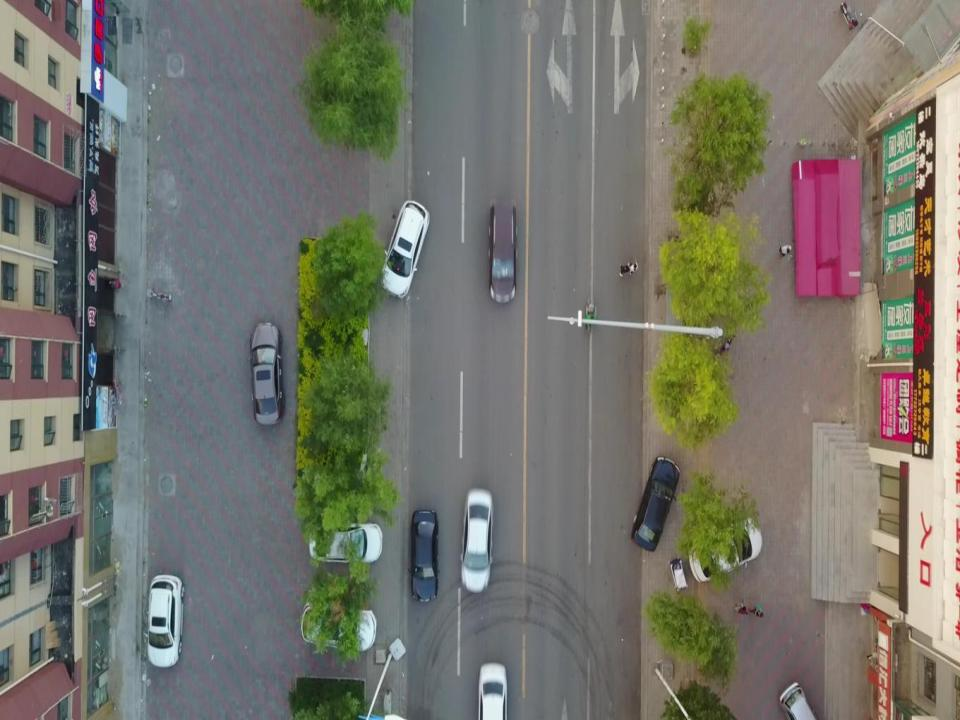car: (382, 194, 432, 304), (632, 446, 681, 555), (687, 523, 762, 586), (299, 599, 378, 653), (460, 481, 496, 598), (144, 570, 184, 672), (247, 317, 283, 426), (486, 200, 519, 310), (406, 504, 440, 606), (305, 520, 383, 564), (476, 658, 509, 719), (775, 675, 815, 720)
